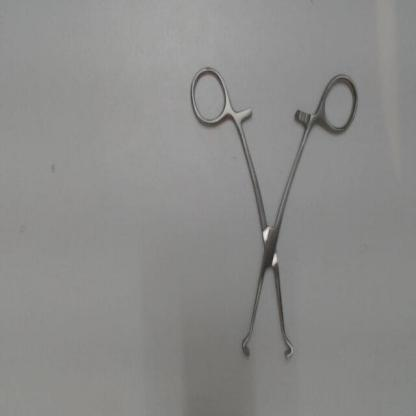Babcock Tissue Forceps: (184, 59, 360, 366)
